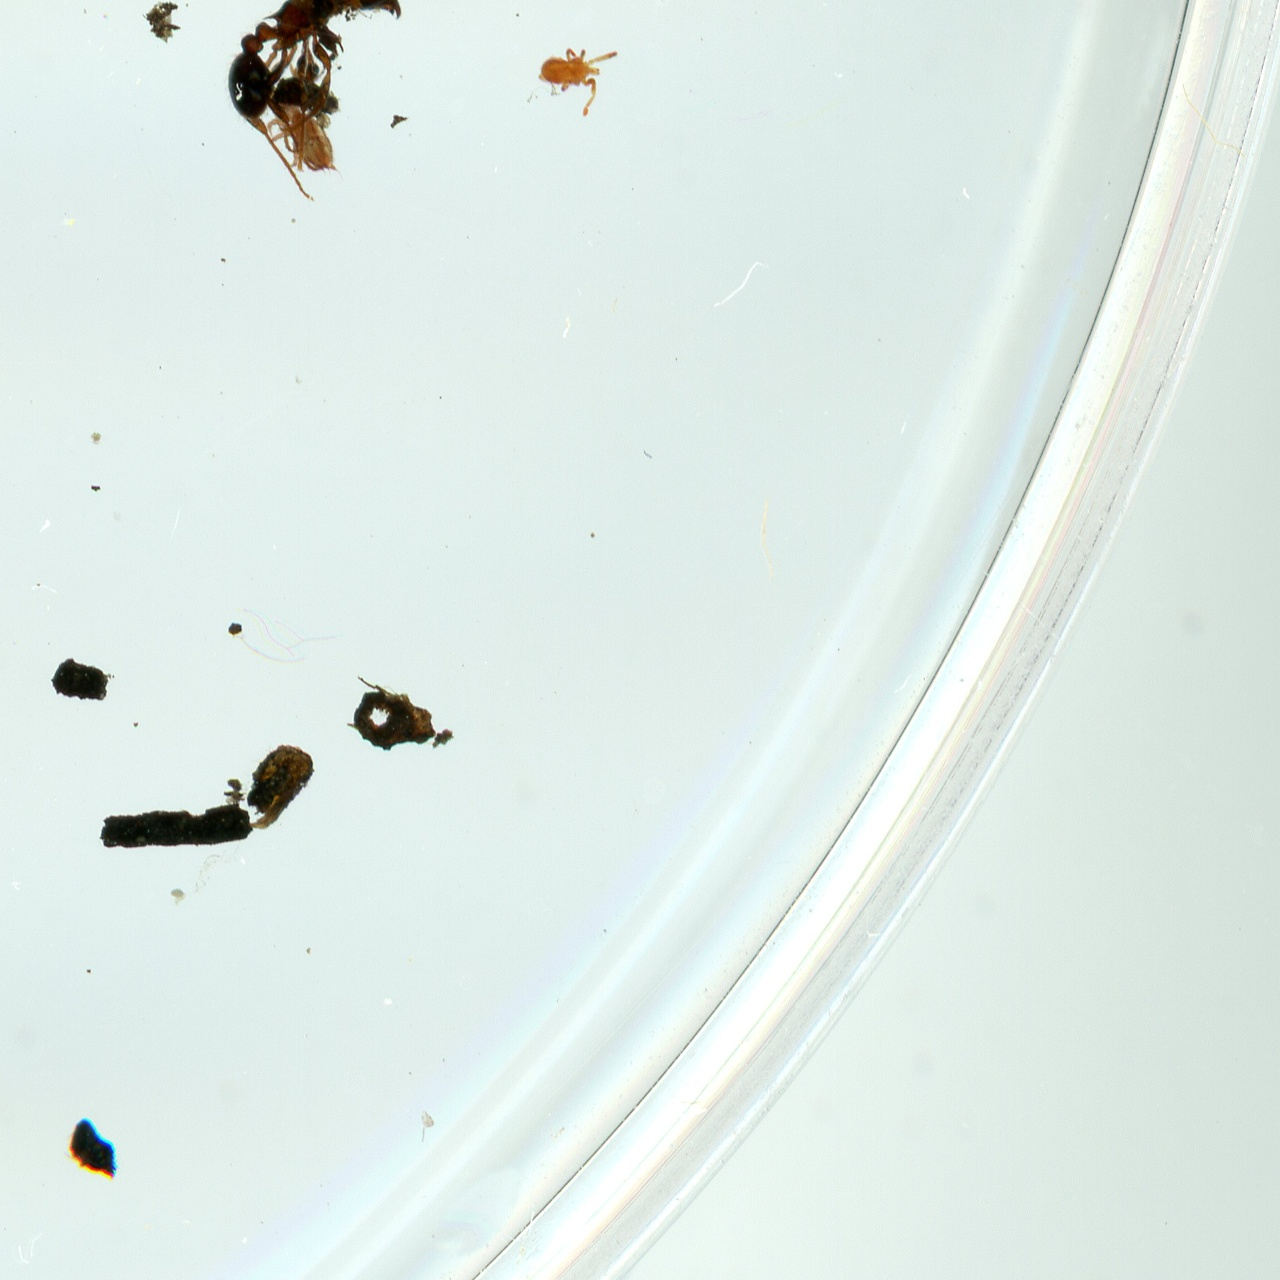arthropod: (182, 0, 492, 234), (537, 45, 621, 118), (266, 114, 343, 176)
